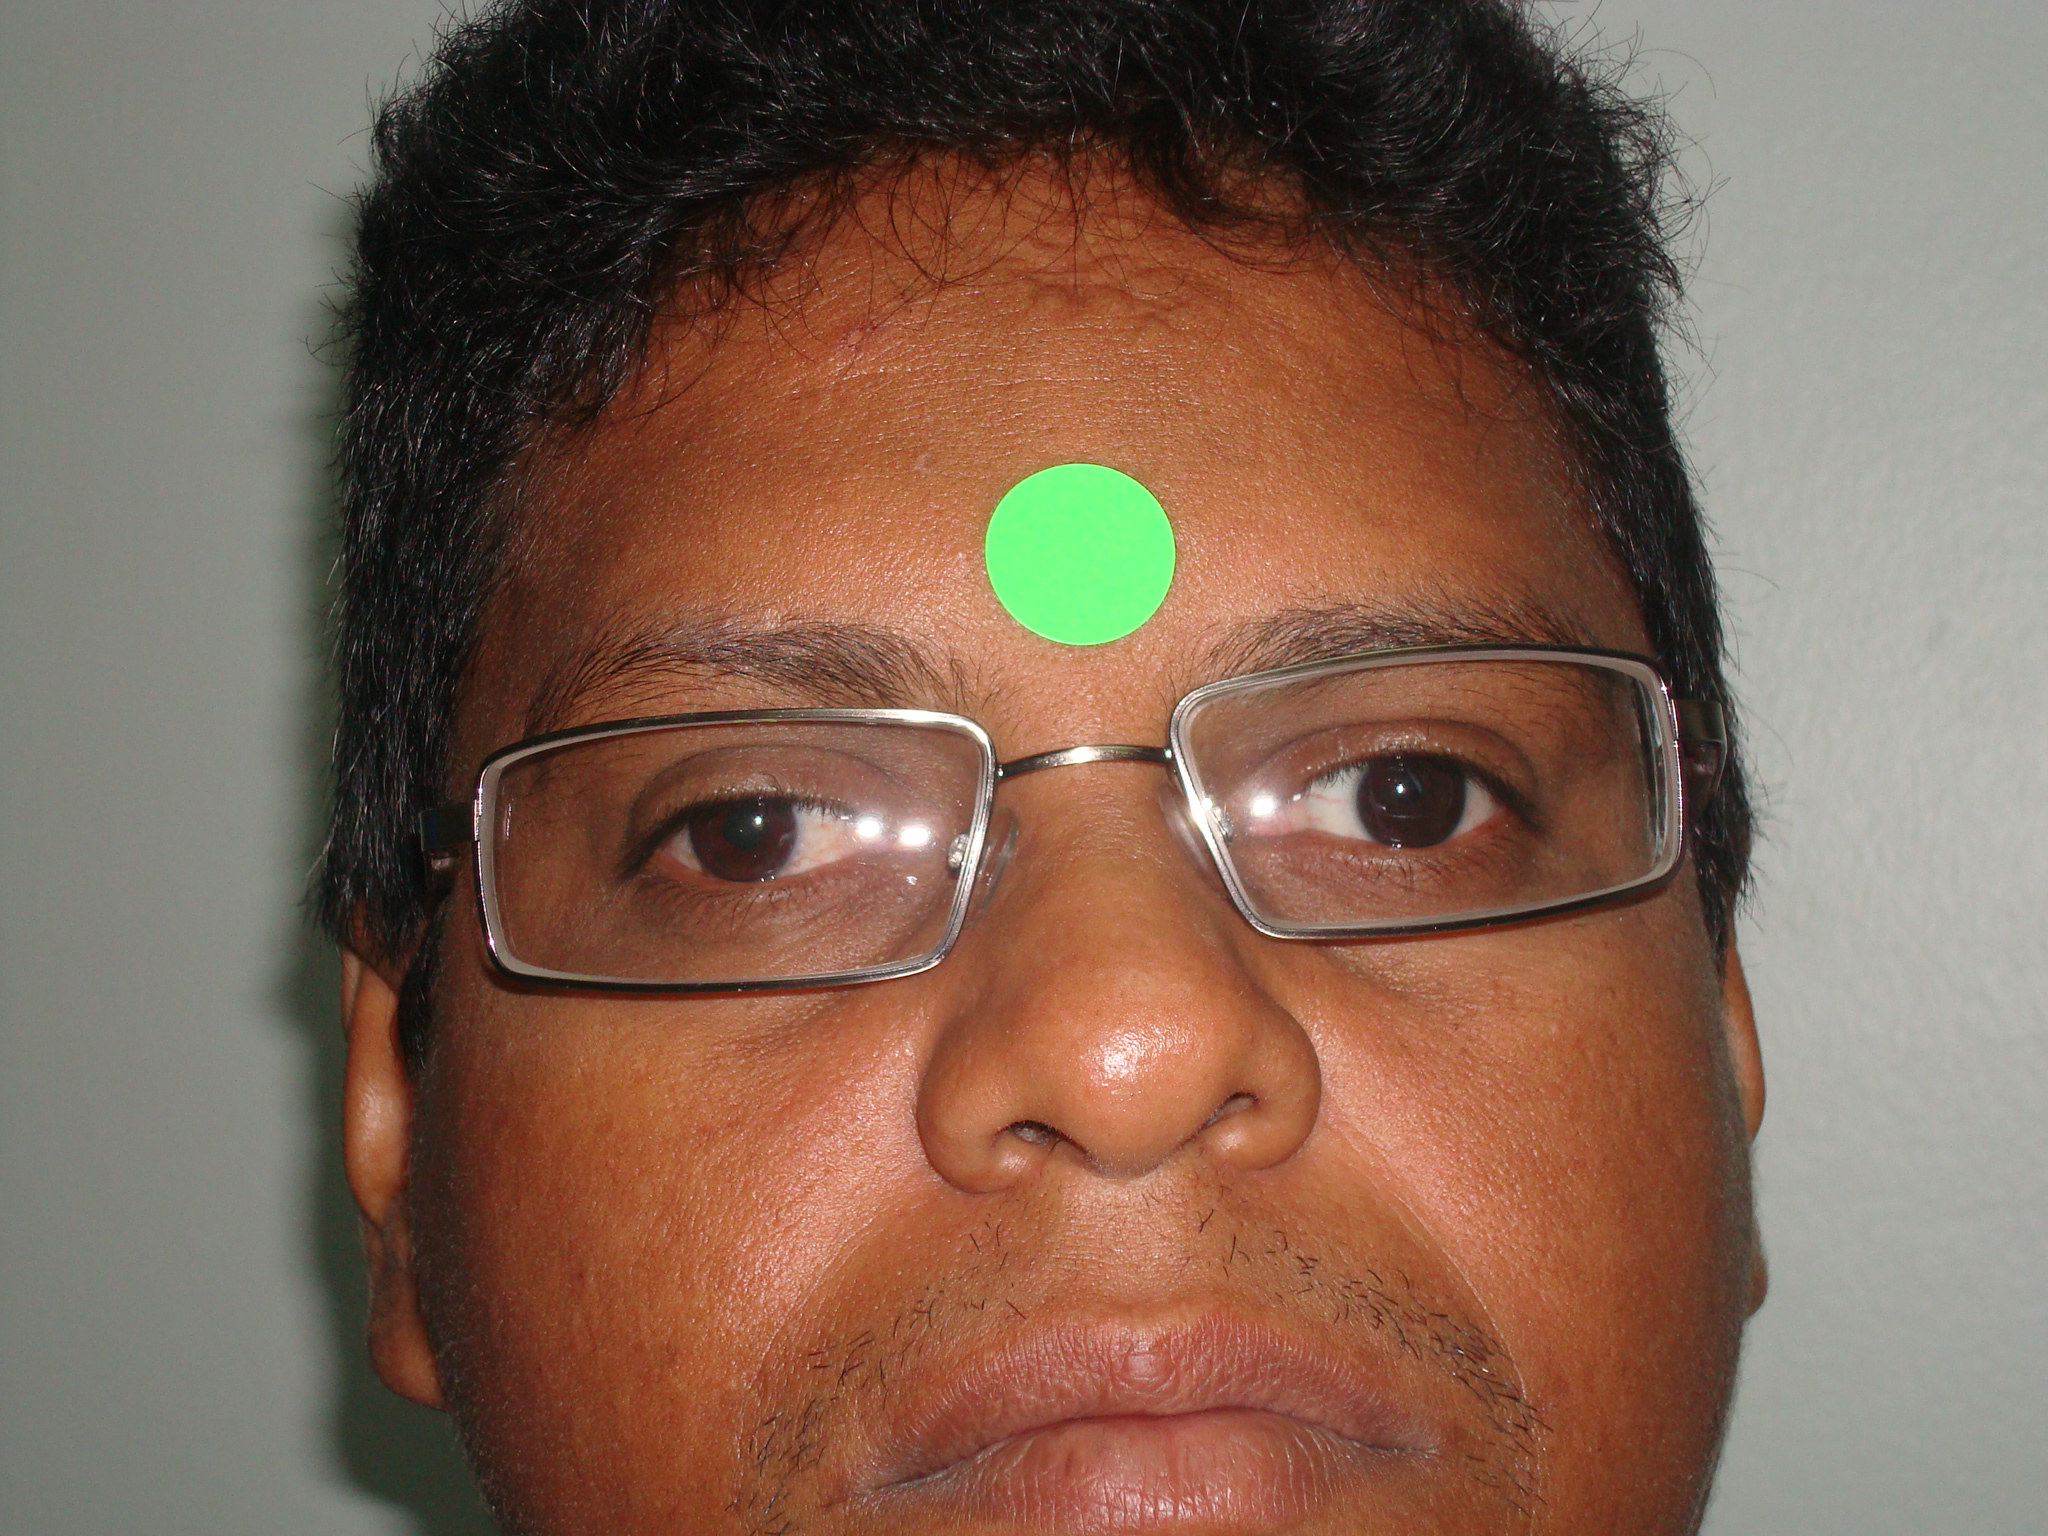flash: (750, 810, 768, 831), (1392, 781, 1408, 797)
limbo: (1350, 734, 1464, 839), (689, 778, 800, 876)
